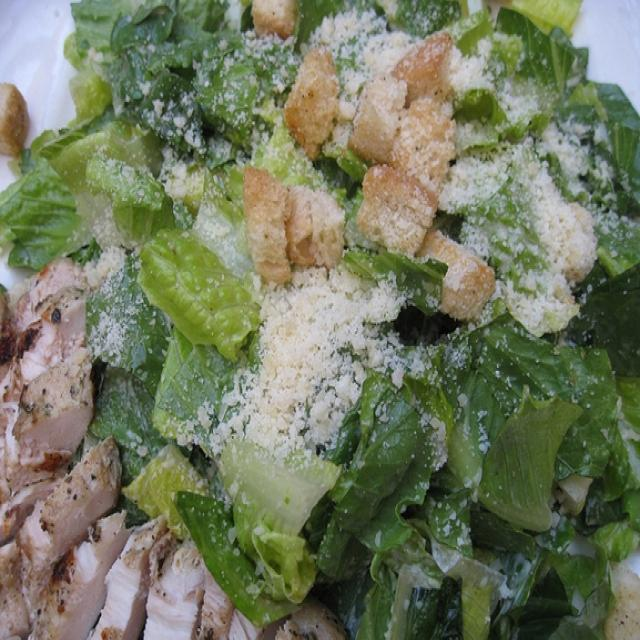蔬菜料理: (4, 10, 624, 631)
